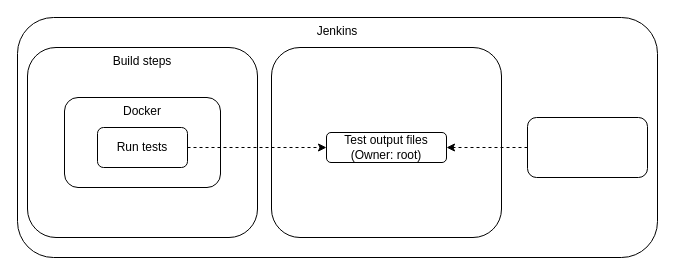
The diagram is 675 pixels wide and 275 high, and some of its shapes have lost their labels. The shapes that lost their labels are listed below. From the top down, each one's box as (x1, y1, x2, y2) in pixels, then its label:
(270, 46, 502, 238): Build workspace (Owner: Jenkins)
(526, 116, 648, 178): Cleanup on branch removal (User: Jenkins)
